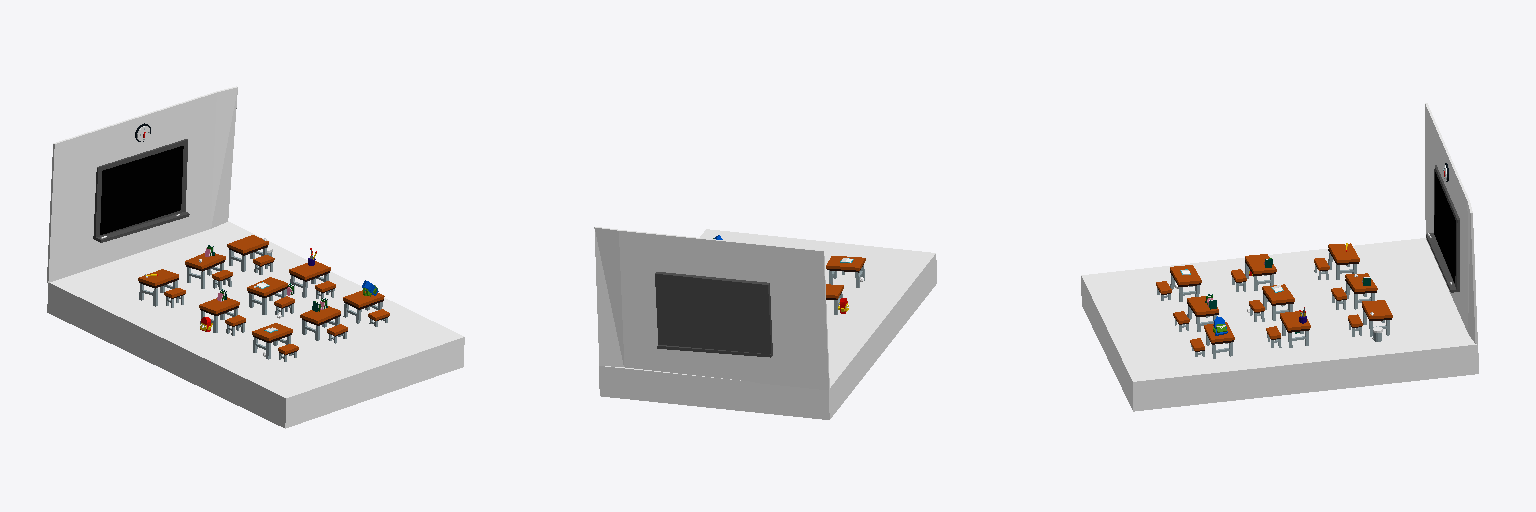
The picture shows the model from 3 angles: view 1: azimuth 30°, elevation 25°; view 2: azimuth 150°, elevation 25°; view 3: azimuth 270°, elevation 25°; orthographic projection.
Visible parts, largest first — view 1: group[number redacted], group[number redacted], group[number redacted], group[number redacted], group[number redacted]; view 2: group[number redacted], group[number redacted], group[number redacted]; view 3: group[number redacted], group[number redacted], group[number redacted], group[number redacted].
Part boxes in pixels (left/top/right/bottom): group[number redacted]: left=47, top=221, right=464, bottom=428; group[number redacted]: left=47, top=86, right=237, bottom=282; group[number redacted]: left=100, top=146, right=183, bottom=234; group[number redacted]: left=93, top=139, right=187, bottom=239; group[number redacted]: left=94, top=212, right=189, bottom=242; group[number redacted]: left=594, top=227, right=829, bottom=389; group[number redacted]: left=599, top=229, right=936, bottom=419; group[number redacted]: left=655, top=272, right=772, bottom=355; group[number redacted]: left=1081, top=238, right=1478, bottom=411; group[number redacted]: left=1425, top=103, right=1477, bottom=343; group[number redacted]: left=1434, top=172, right=1455, bottom=282; group[number redacted]: left=1434, top=165, right=1459, bottom=288.
Size of the model in its own units: 3.82 by 2.43 by 4.86.